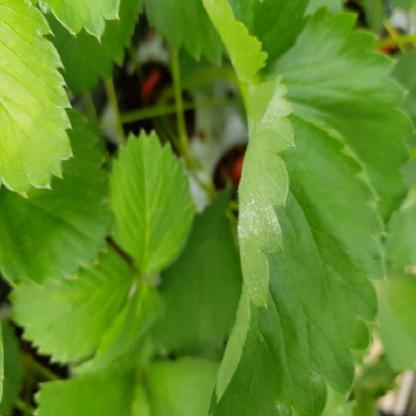Strawberry_Powdery_Mildew_Leaf: (206, 74, 386, 416)
